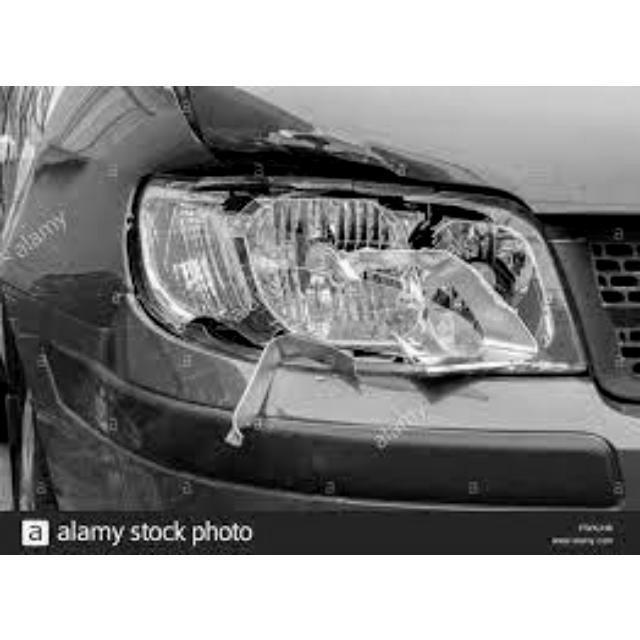Headlight-damage: (98, 135, 591, 398)
